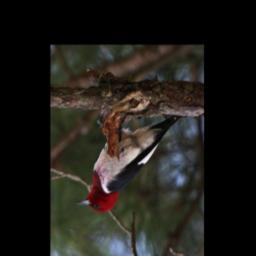Woodpecker: (72, 115, 188, 214)
